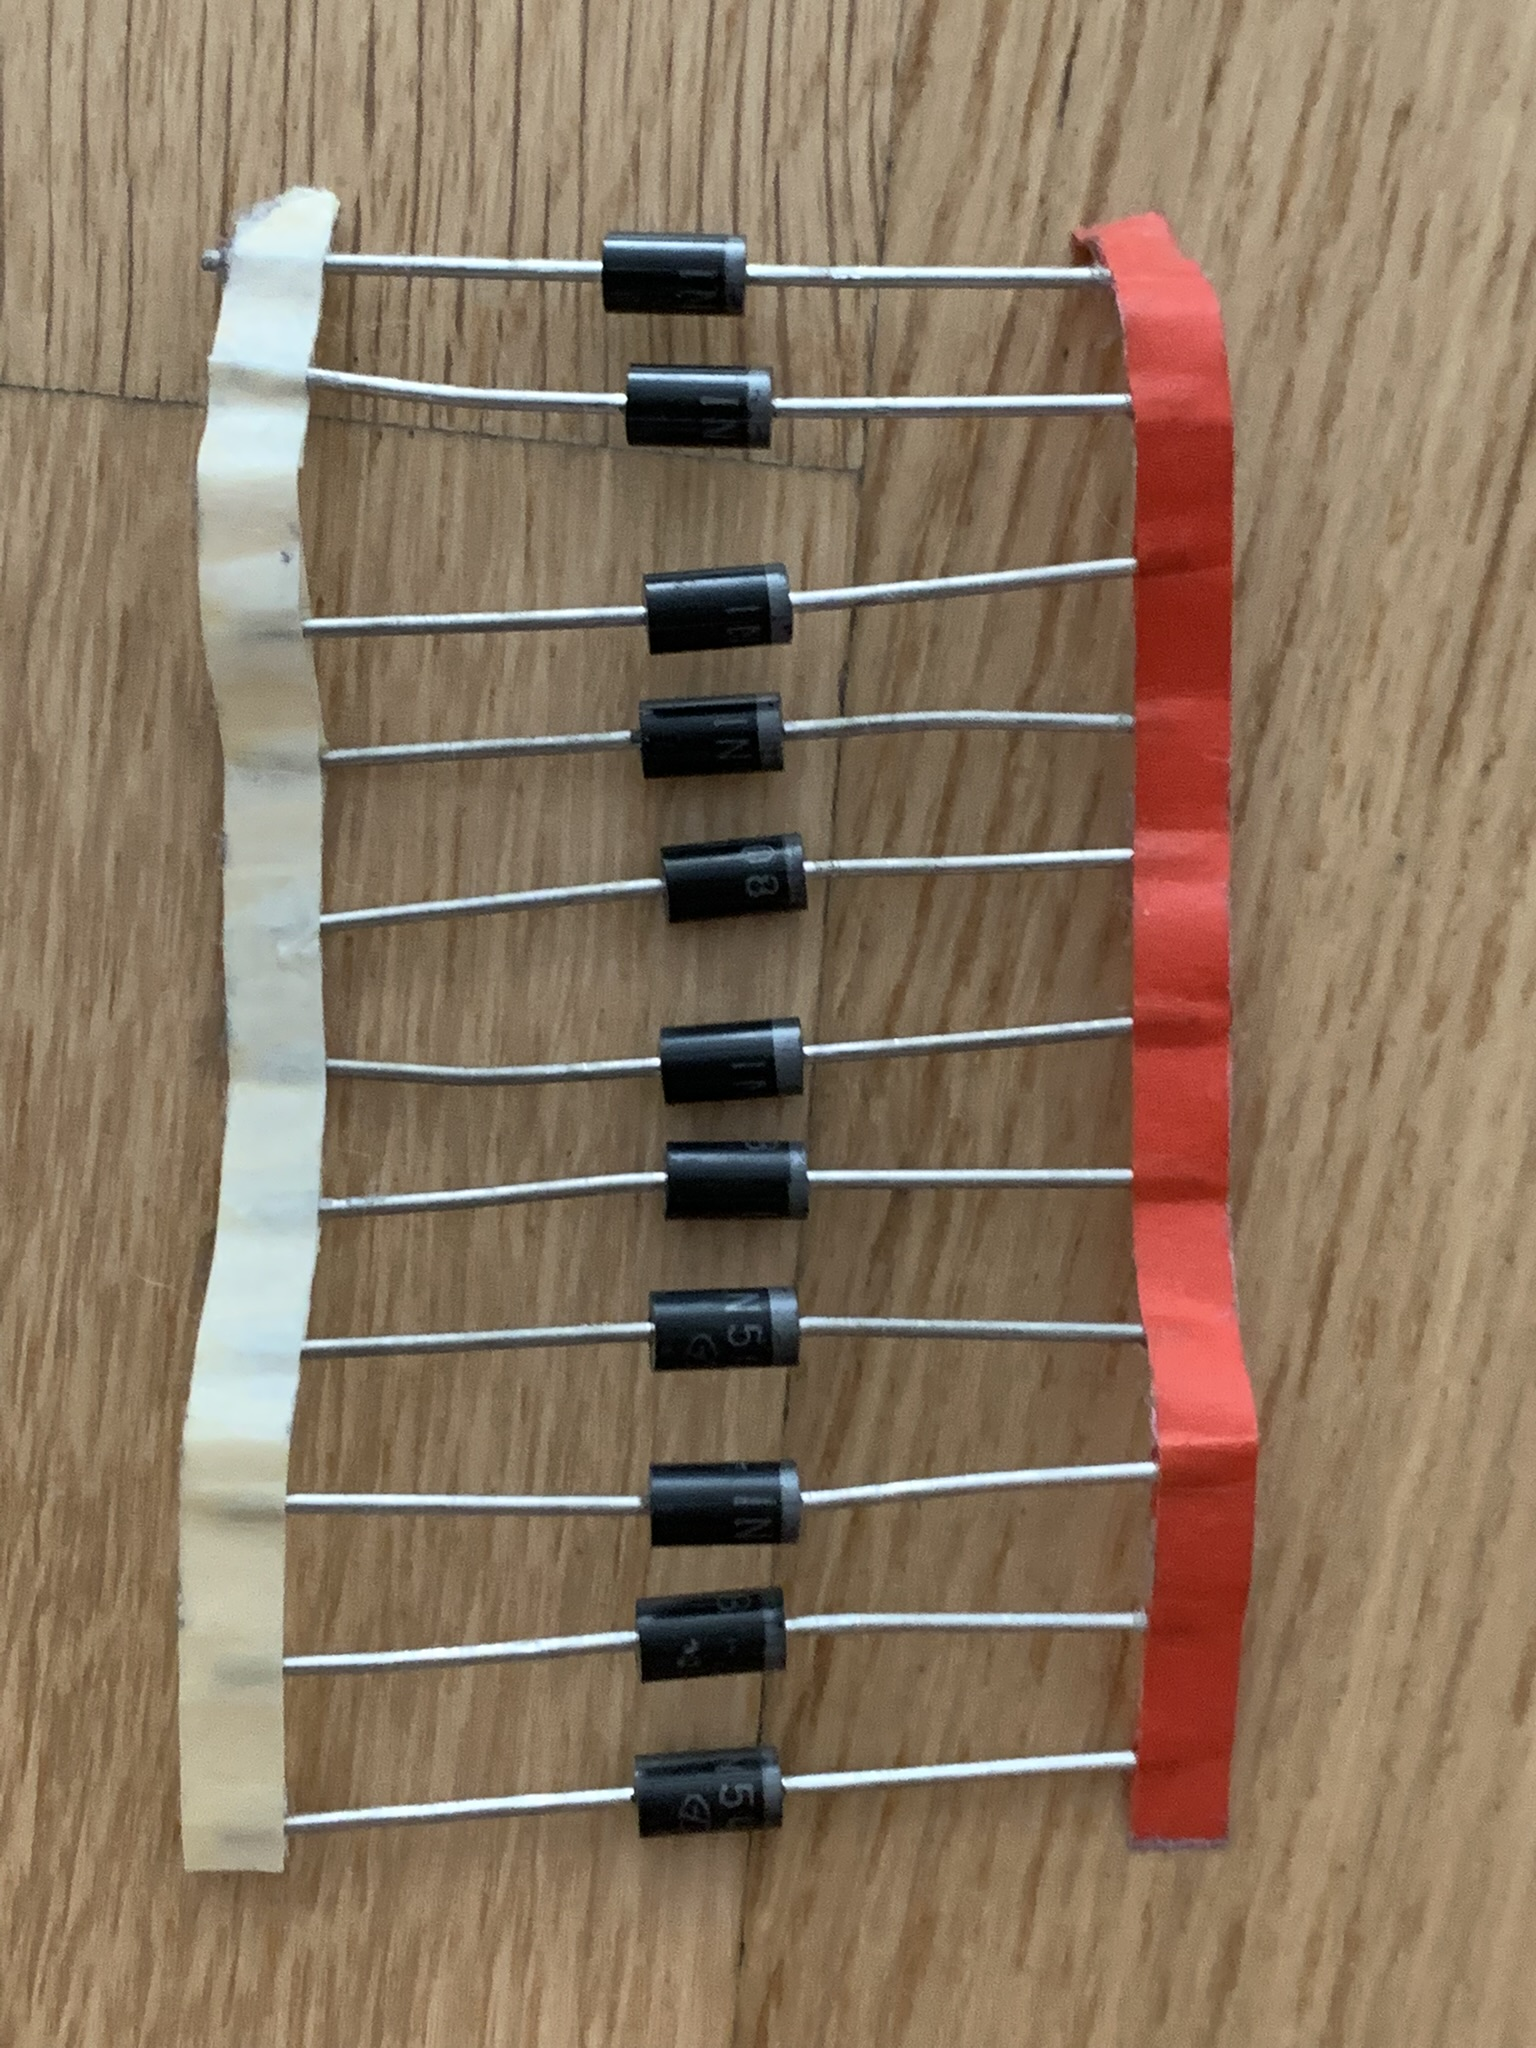diode_thd: (634, 1587, 791, 1685), (632, 1745, 786, 1838), (662, 830, 812, 926), (644, 561, 792, 656), (637, 689, 789, 780), (624, 361, 774, 453), (647, 1285, 805, 1372), (660, 1014, 808, 1106), (649, 1461, 800, 1550), (600, 231, 749, 319), (665, 1138, 808, 1222)
